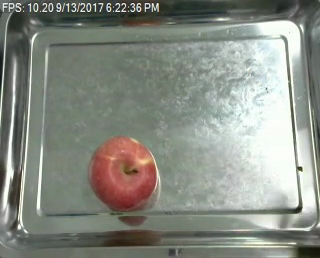Apple: (86, 135, 162, 212)
